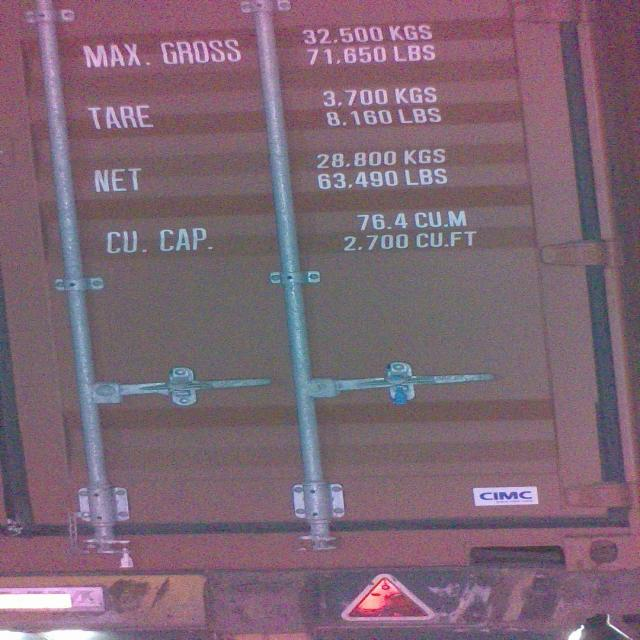seal: (386, 370, 417, 410), (115, 539, 142, 570)
